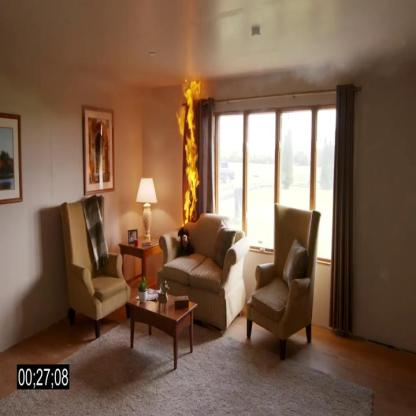fire: (175, 81, 202, 225)
